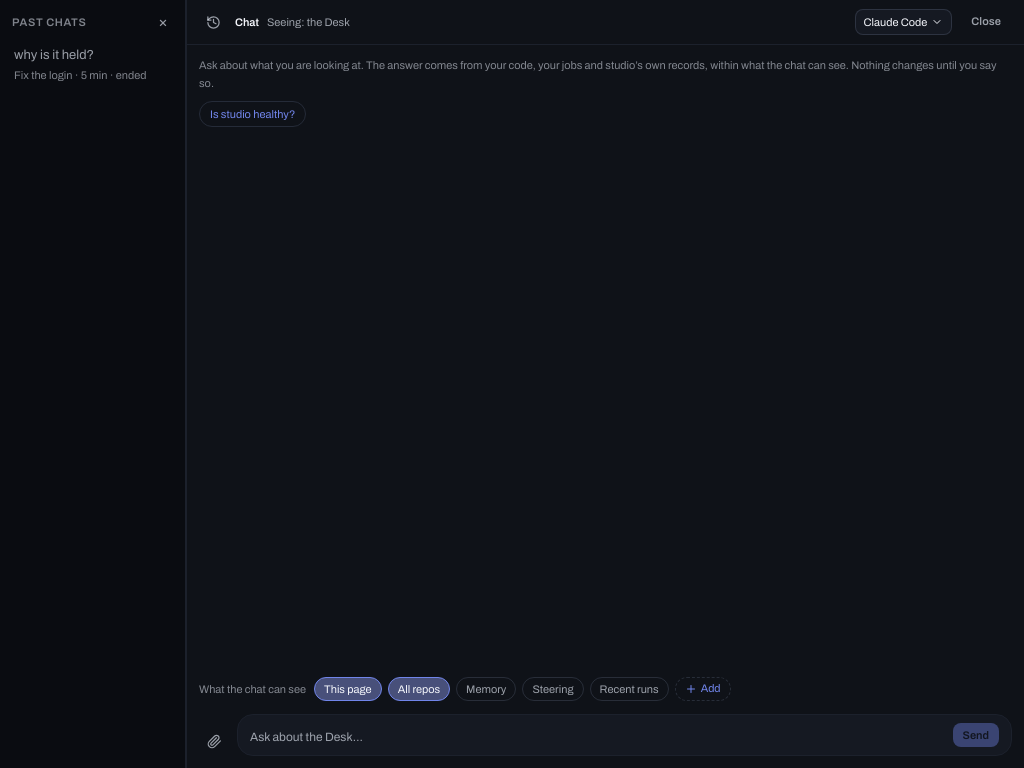
Test: past chats beside the conversation (the approved mockup) › a chat started beside the open column shows up in it, marked (review: agy P3)
Expected: the number of buttons with test id "chat-history-entry" is 1, [6, 40, 179, 89]
Type "what is stopping work?" into the text box with test id "assist-input". click: (597, 737)
box: [250, 727, 944, 747]
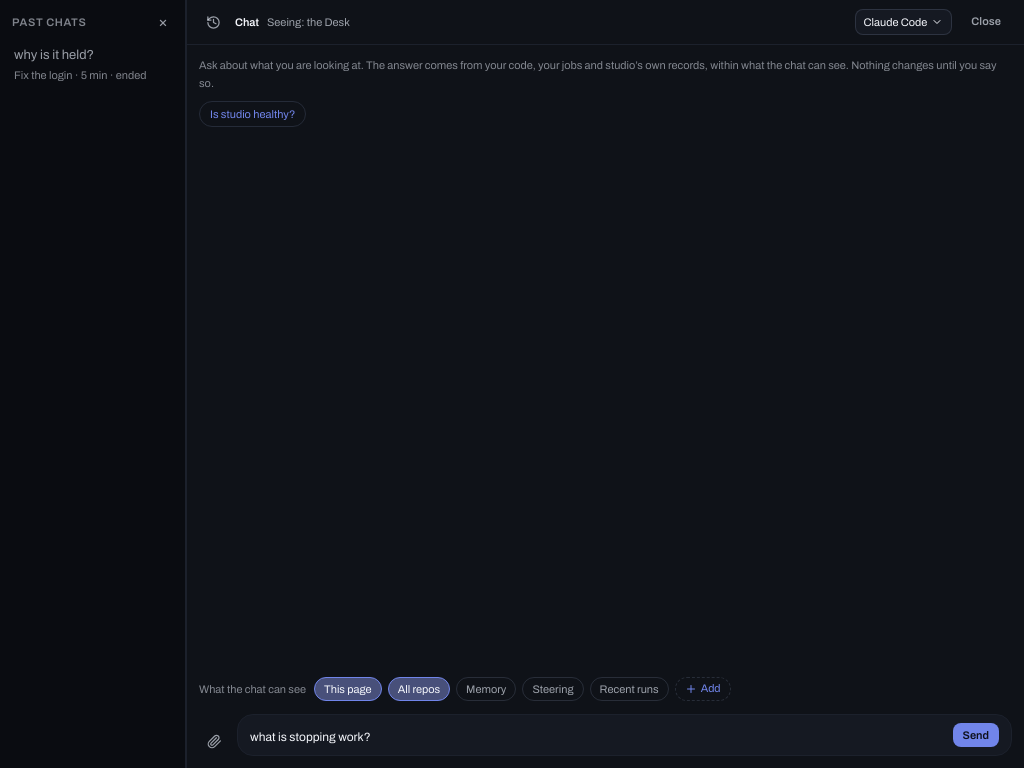
Click the button with test id "assist-send". click: (976, 735)
box: [952, 722, 999, 747]
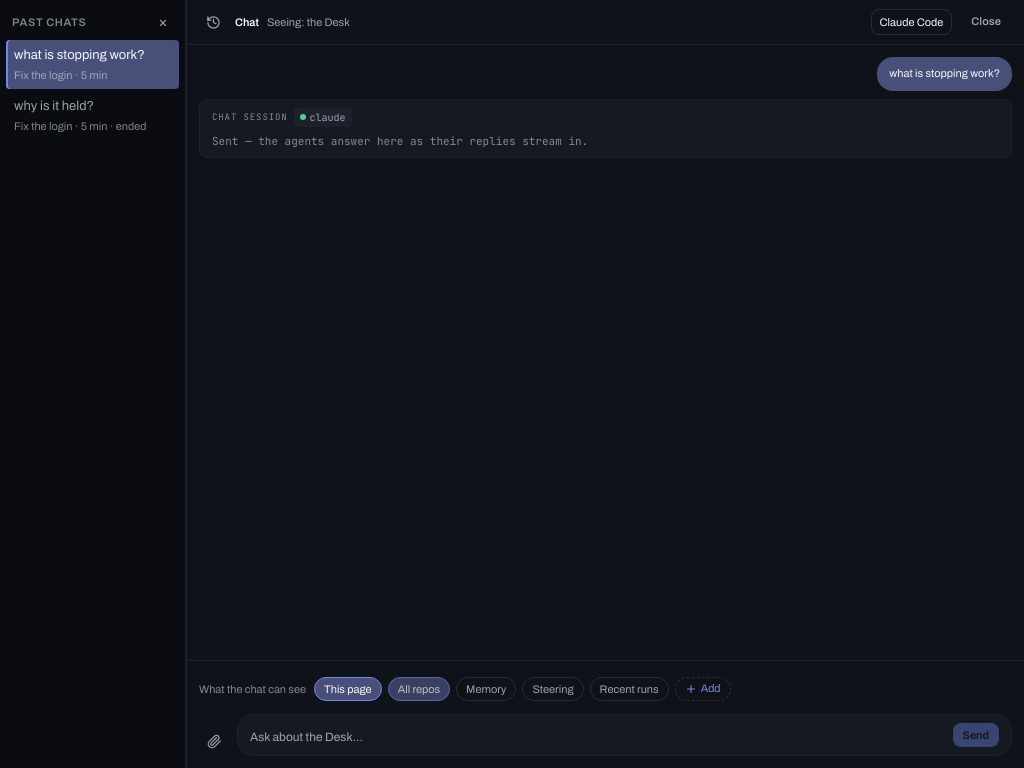
Now the number of buttons with test id "chat-history-entry" is 2, box [6, 40, 179, 89]; [6, 91, 179, 140]
